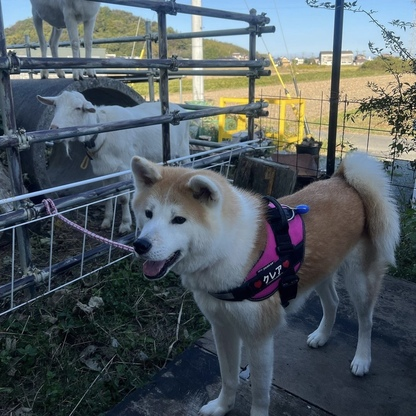akita: (121, 146, 403, 416)
